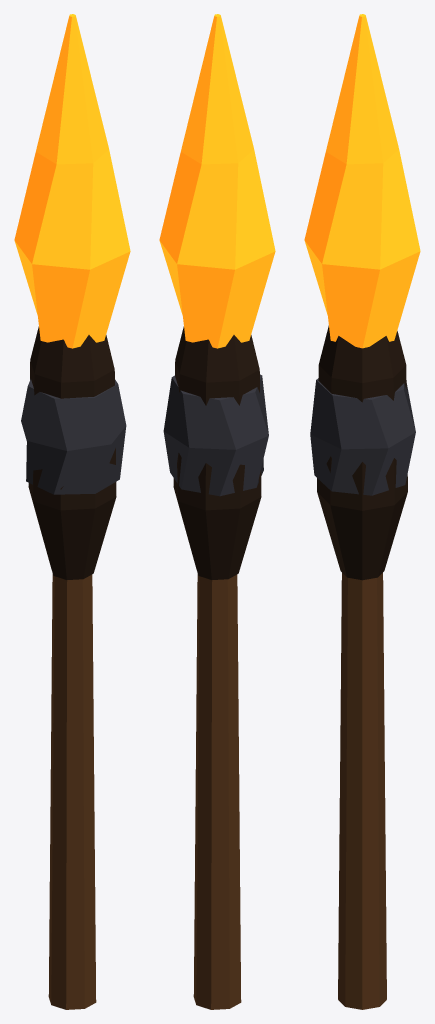
Rendered from torch.glb.
3 views of the same model, side by side, from view 1: azimuth 30°, elevation 25°; view 2: azimuth 210°, elevation 25°; view 3: azimuth 270°, elevation 25° (orthographic).
Visible parts, largest first — view 1: Flame, Stick, Wrap, CoalLumps; view 2: Flame, Stick, Wrap, CoalLumps; view 3: Flame, Stick, Wrap, CoalLumps.
Boxes of the visible parts, left/top/right/bottom form: Flame: left=14, top=14, right=130, bottom=348; Stick: left=48, top=574, right=96, bottom=1009; Wrap: left=28, top=326, right=116, bottom=579; CoalLumps: left=21, top=379, right=126, bottom=494; Flame: left=159, top=14, right=275, bottom=348; Stick: left=193, top=574, right=241, bottom=1009; Wrap: left=173, top=326, right=261, bottom=579; CoalLumps: left=163, top=374, right=268, bottom=496; Flame: left=304, top=14, right=420, bottom=348; Stick: left=338, top=573, right=386, bottom=1009; Wrap: left=317, top=325, right=407, bottom=580; CoalLumps: left=310, top=378, right=415, bottom=495.
Size of the model in its own units: 0.1299 by 1.24 by 0.1326.
